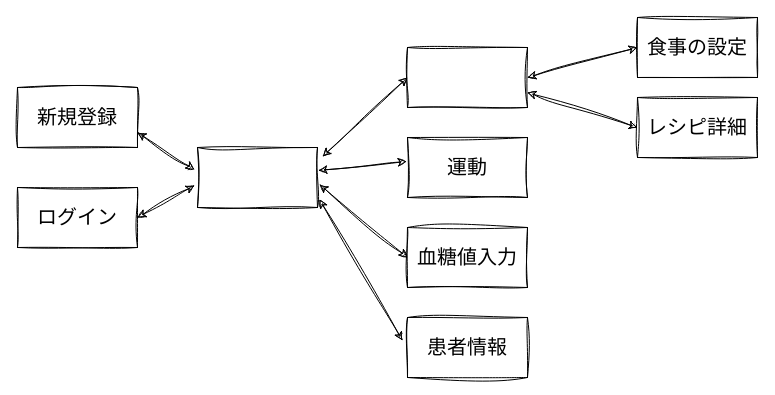
The diagram is 775 pixels wide and 395 high, and some of its shapes have lost their labels. Here are the shapes that lost their labels. From the top down, the centre of each, then its label:
At [467,77]: "食事".
At [257,177]: "TOP".
